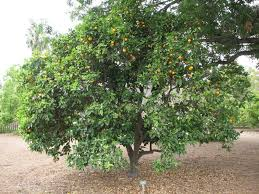orange: (188, 65, 193, 71)
